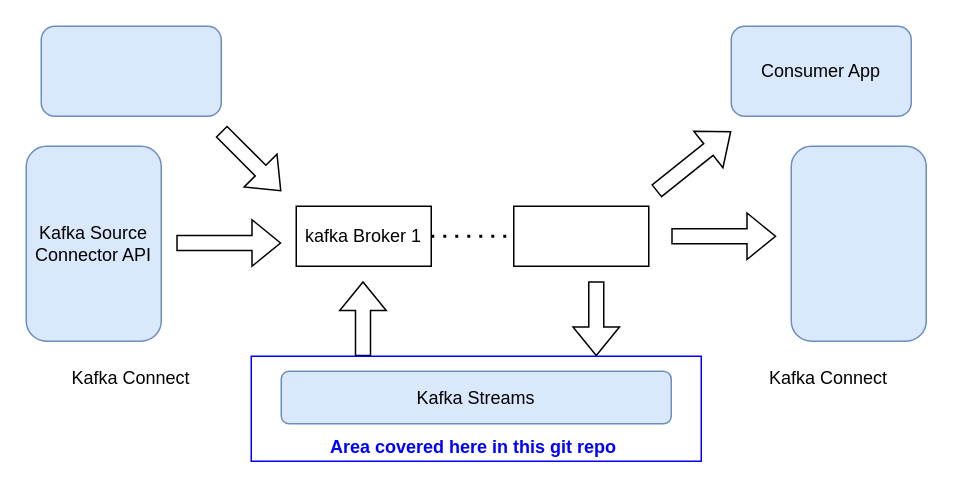
This 953x488 diagram has some shape labels left out. Here are the shapes that lost their labels. From the top down, the centre of each, then its label:
the point at 130,70: Producer App
the point at 580,235: Kafka Broker N
the point at 858,243: Kafka Sink Connector API
